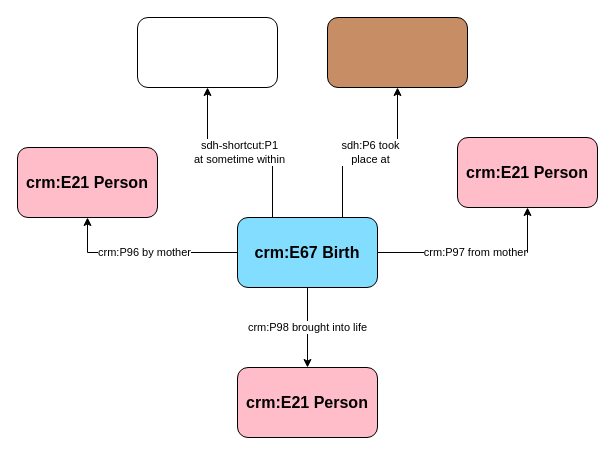
Image size: 615x455. Some labels were removed from this diagram. The shapes that lost their labels are listed below. From the top down, each one's centre as x and y in pixels, then its label:
the point at 207,52: String
the point at 397,52: sdh:C13 Geographical Place
